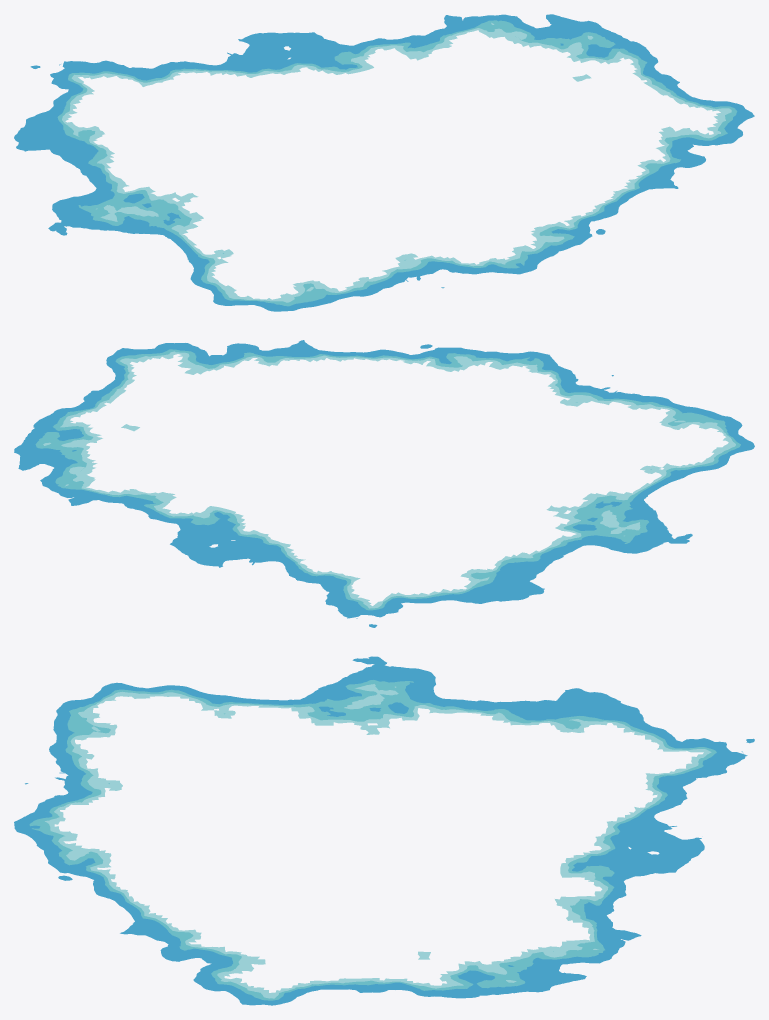
Rendered from Isl-bot5-Water.fbx.
The picture shows the model from 3 angles, top to bottom: view 1: azimuth 30°, elevation 25°; view 2: azimuth 150°, elevation 25°; view 3: azimuth 270°, elevation 25°; orthographic projection. The views are drawn at different scales.
Parts seen in each view (by area): view 1: Isl-bot5-Water; view 2: Isl-bot5-Water; view 3: Isl-bot5-Water.
Part boxes in pixels (<box>): Isl-bot5-Water: <box>14,14,754,311</box>; Isl-bot5-Water: <box>14,340,754,627</box>; Isl-bot5-Water: <box>14,656,754,1005</box>.
Size of the model in its own units: 145 by 0 by 130.
